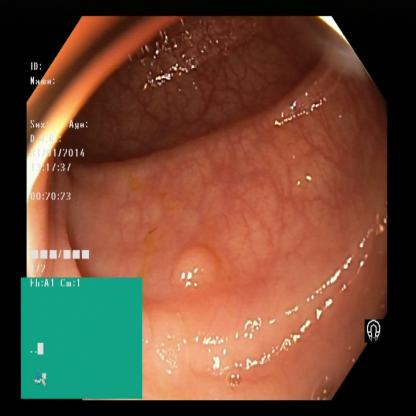Labels: (24, 52, 97, 277), (20, 274, 144, 398), (361, 310, 387, 348)
Polyps: (160, 242, 226, 302)
